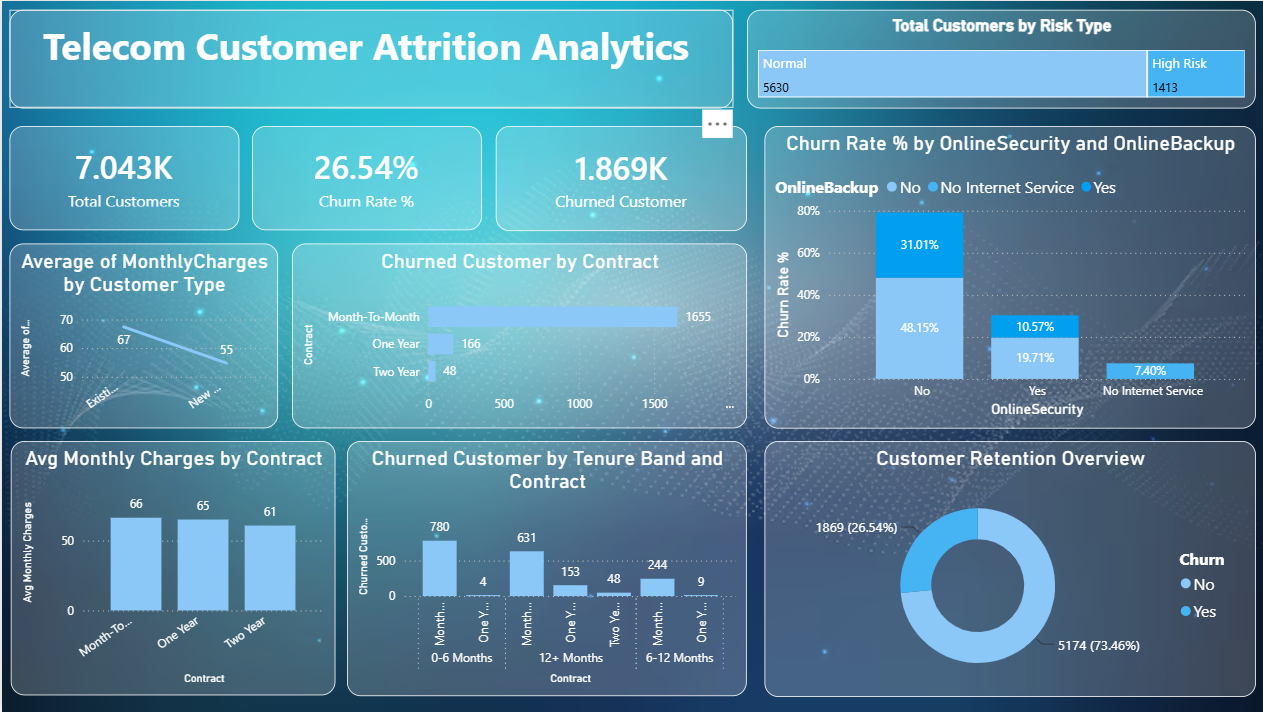

What the dashboard file says about the page in this screenshot:
{"tool":"powerbi","page":{"name":"Analysis Dashboard","canvas":[1280,720],"ordinal":1},"visuals":[{"type":"textbox","box":[8.1,9.3,732.6,100],"z":0},{"type":"treemap","fields":{"Values":["Calculated Measure.Total Customers"],"Group":["telco_churn_unclean.Risk Type"]},"box":[754.7,9.3,515.1,100],"z":1},{"type":"cardVisual","fields":{"Data":["Calculated Measure.Total Customers"]},"box":[8.1,126.7,232.6,105.8],"z":2},{"type":"cardVisual","fields":{"Data":["Calculated Measure.Churn Rate %"]},"box":[253.5,126.7,232.6,105.8],"z":3},{"type":"cardVisual","fields":{"Data":["Calculated Measure.Churned Customer"]},"box":[500,126.6,254.4,106.3],"z":4},{"type":"donutChart","title":"Customer Retention Overview","fields":{"Category":["telco_churn_unclean.Churn"],"Y":["Calculated Measure.Total Customers"]},"box":[772.2,445.6,497.5,259.5],"z":5},{"type":"barChart","fields":{"Category":["telco_churn_unclean.Contract"],"Y":["Calculated Measure.Churned Customer"]},"box":[293.7,245.6,460.8,187.3],"z":6},{"type":"columnChart","fields":{"Y":["Calculated Measure.Churned Customer"],"Category":["telco_churn_unclean.Tenure Band","telco_churn_unclean.Contract"]},"box":[349.4,445.6,405.1,258.2],"z":8},{"type":"clusteredColumnChart","fields":{"Y":["Calculated Measure.Avg Monthly Charges"],"Category":["telco_churn_unclean.Contract"]},"box":[8.8,445.5,329.1,257.8],"z":9},{"type":"lineChart","fields":{"Category":["telco_churn_unclean.Customer Type"],"Y":["Avg(telco_churn_unclean.MonthlyCharges)"]},"box":[7.6,245.6,272.2,187.3],"z":10},{"type":"columnChart","fields":{"Category":["telco_churn_unclean.OnlineSecurity"],"Y":["Calculated Measure.Churn Rate %"],"Series":["telco_churn_unclean.OnlineBackup"]},"box":[772.2,126.6,497.5,306.3],"z":11}]}

Visuals, with their boxes in screenshot pixels (x1, y1, x2, y2), scaled from the page's 1280x720 canvas onto the 1263x712 screenshot:
textbox: detection(8, 9, 731, 108)
treemap - Calculated Measure.Total Customers x telco_churn_unclean.Risk Type: detection(745, 9, 1253, 108)
cardVisual - Calculated Measure.Total Customers: detection(8, 125, 238, 230)
cardVisual - Calculated Measure.Churn Rate %: detection(250, 125, 480, 230)
cardVisual - Calculated Measure.Churned Customer: detection(493, 125, 744, 230)
"Customer Retention Overview" donutChart: detection(762, 441, 1253, 697)
barChart - telco_churn_unclean.Contract x Calculated Measure.Churned Customer: detection(290, 243, 744, 428)
columnChart - Calculated Measure.Churned Customer x telco_churn_unclean.Tenure Band: detection(345, 441, 744, 696)
clusteredColumnChart - Calculated Measure.Avg Monthly Charges x telco_churn_unclean.Contract: detection(9, 441, 333, 695)
lineChart - telco_churn_unclean.Customer Type x Avg(telco_churn_unclean.MonthlyCharges): detection(7, 243, 276, 428)
columnChart - telco_churn_unclean.OnlineSecurity x Calculated Measure.Churn Rate %: detection(762, 125, 1253, 428)
